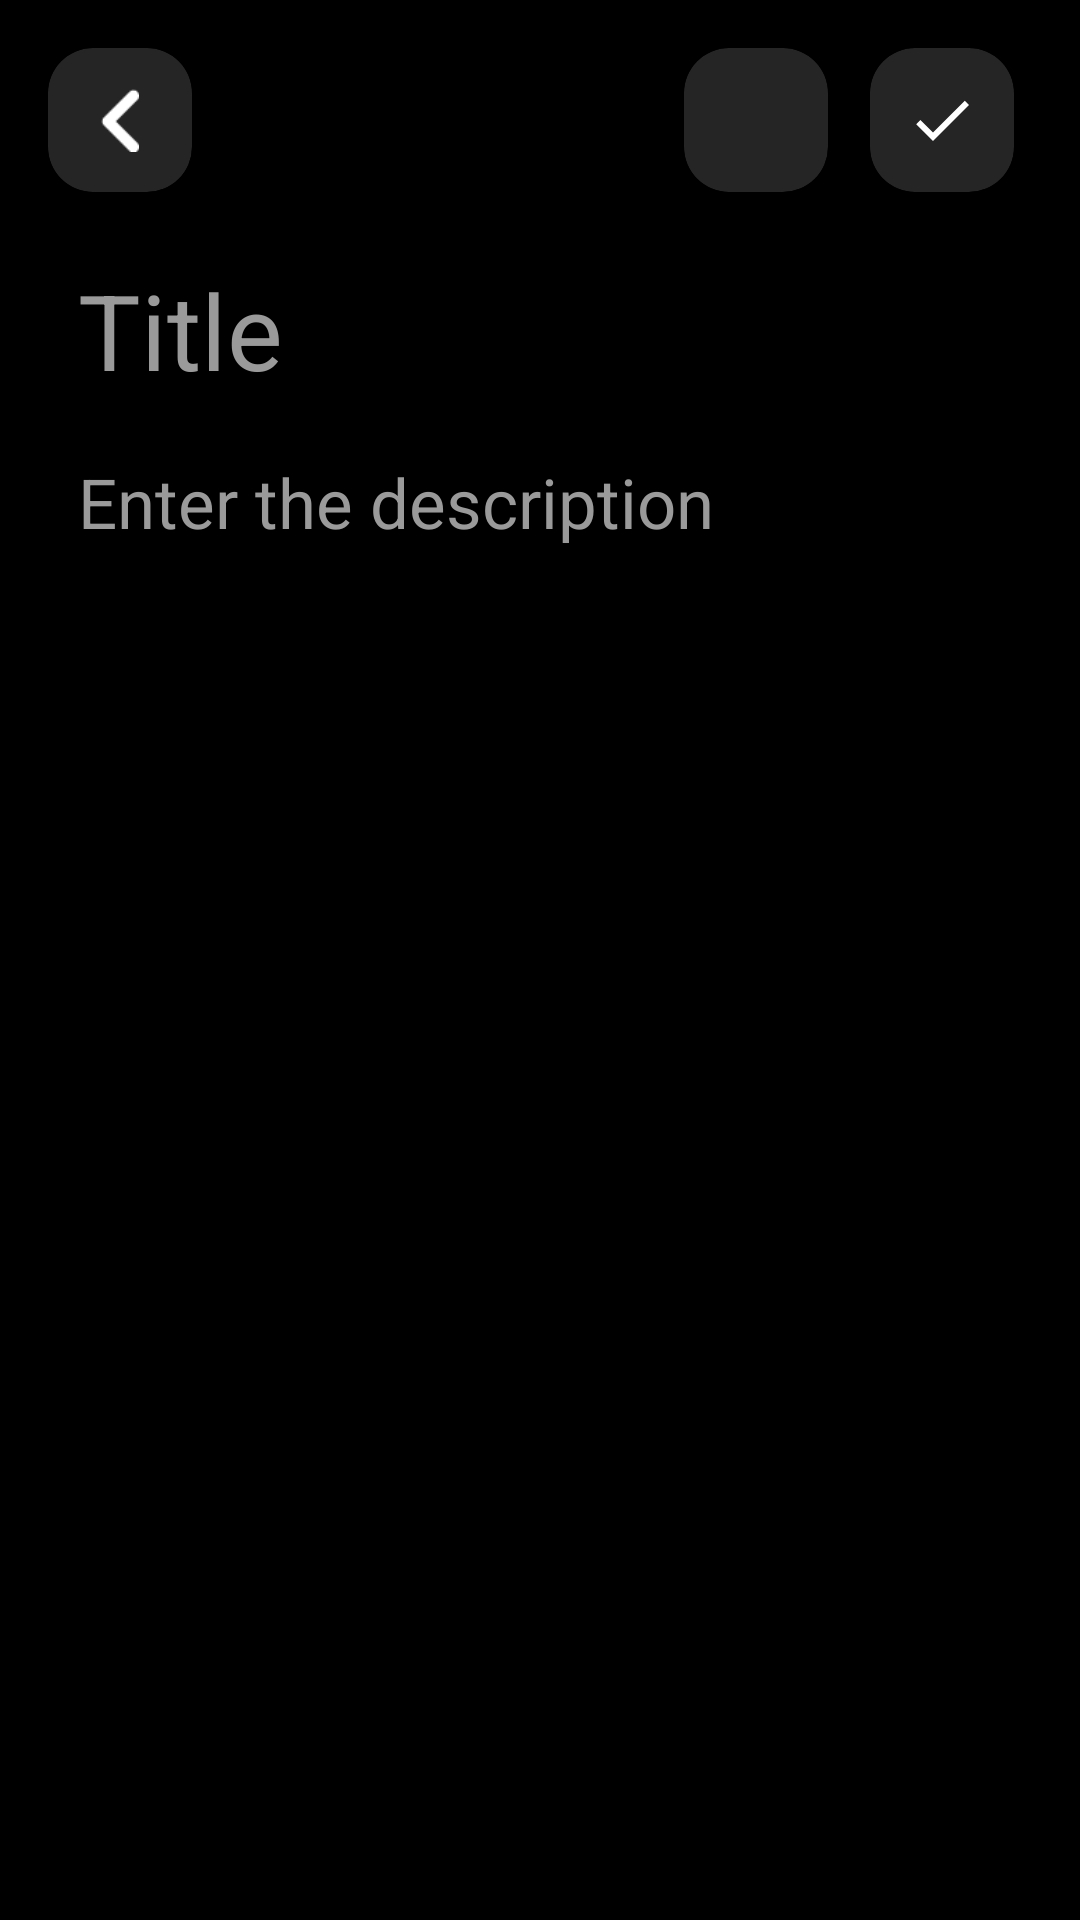

Screen size 1080w x 1920h. Icon name, then its center in pixels as point (x, y):
done: point (942, 121)
